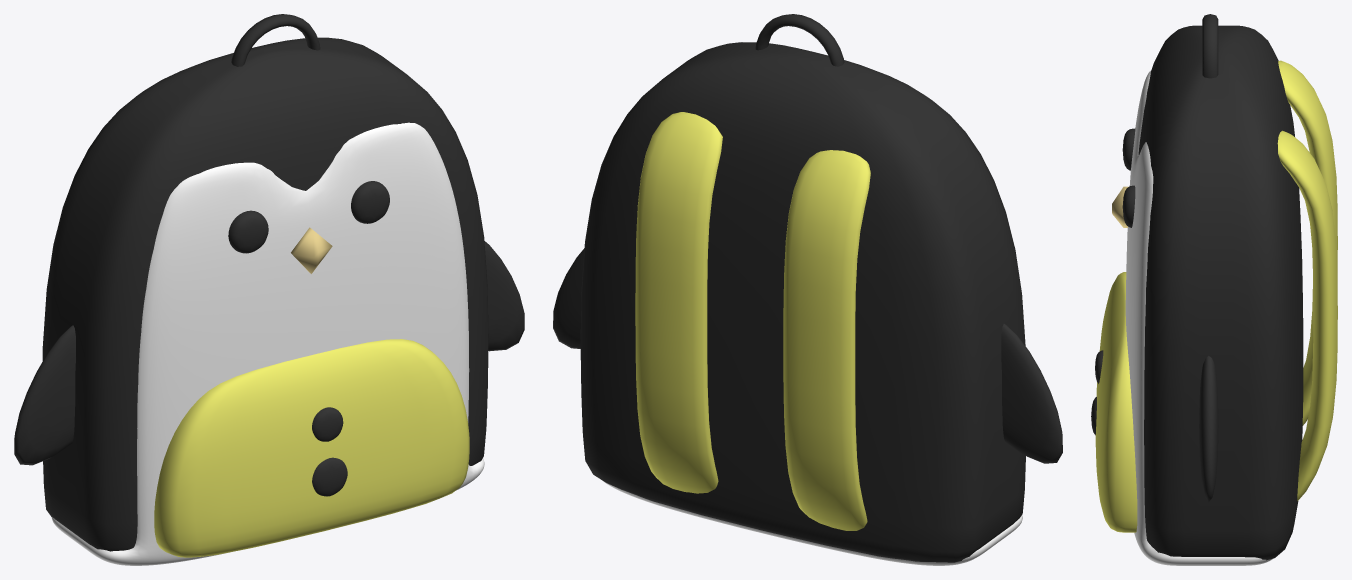
File: bishop.glb
3 views of the same model, side by side, from view 1: azimuth 30°, elevation 25°; view 2: azimuth 150°, elevation 25°; view 3: azimuth 270°, elevation 25° (orthographic). The views are drawn at different scales.
Visible parts, largest first — view 1: Kubus.014_26, Kubus.019_31, Kubus.015_27, Kubus.018_29, Lingkaran.011_33, NurbsPath.003_25, Lingkaran.004_30, Kubus.020_34, Lingkaran.009_32; view 2: Kubus.014_26, Kubus.049_109, Kubus.050_110, Kubus.018_29, Kubus.019_31, NurbsPath.003_25; view 3: Kubus.014_26, Kubus.050_110, Kubus.019_31, Kubus.015_27, Kubus.049_109, Kubus.018_29, NurbsPath.003_25, Lingkaran.011_33, Kubus.020_34.
Part boxes in pixels (x1,y1,x2,y2): Kubus.014_26: (42,37,488,551); Kubus.019_31: (51,122,484,565); Kubus.015_27: (154,339,469,557); Kubus.018_29: (14,241,524,465); Lingkaran.011_33: (228,181,389,253); NurbsPath.003_25: (231,14,320,66); Lingkaran.004_30: (312,457,347,496); Kubus.020_34: (291,227,332,273); Lingkaran.009_32: (312,407,343,441); Kubus.014_26: (580,42,1025,562); Kubus.049_109: (783,150,870,530); Kubus.050_110: (635,112,722,493); Kubus.018_29: (553,248,1062,463); Kubus.019_31: (602,480,1022,565); NurbsPath.003_25: (755,14,844,66); Kubus.014_26: (1138,25,1303,560); Kubus.050_110: (1277,130,1337,500); Kubus.019_31: (1125,70,1273,565); Kubus.015_27: (1095,272,1137,532); Kubus.049_109: (1278,60,1337,425); Kubus.018_29: (1199,356,1218,501); NurbsPath.003_25: (1202,14,1218,78); Lingkaran.011_33: (1122,128,1135,227); Kubus.020_34: (1112,186,1128,227).
Bounding box in the file's own units: 2.84 × 2.6 × 1.24.
